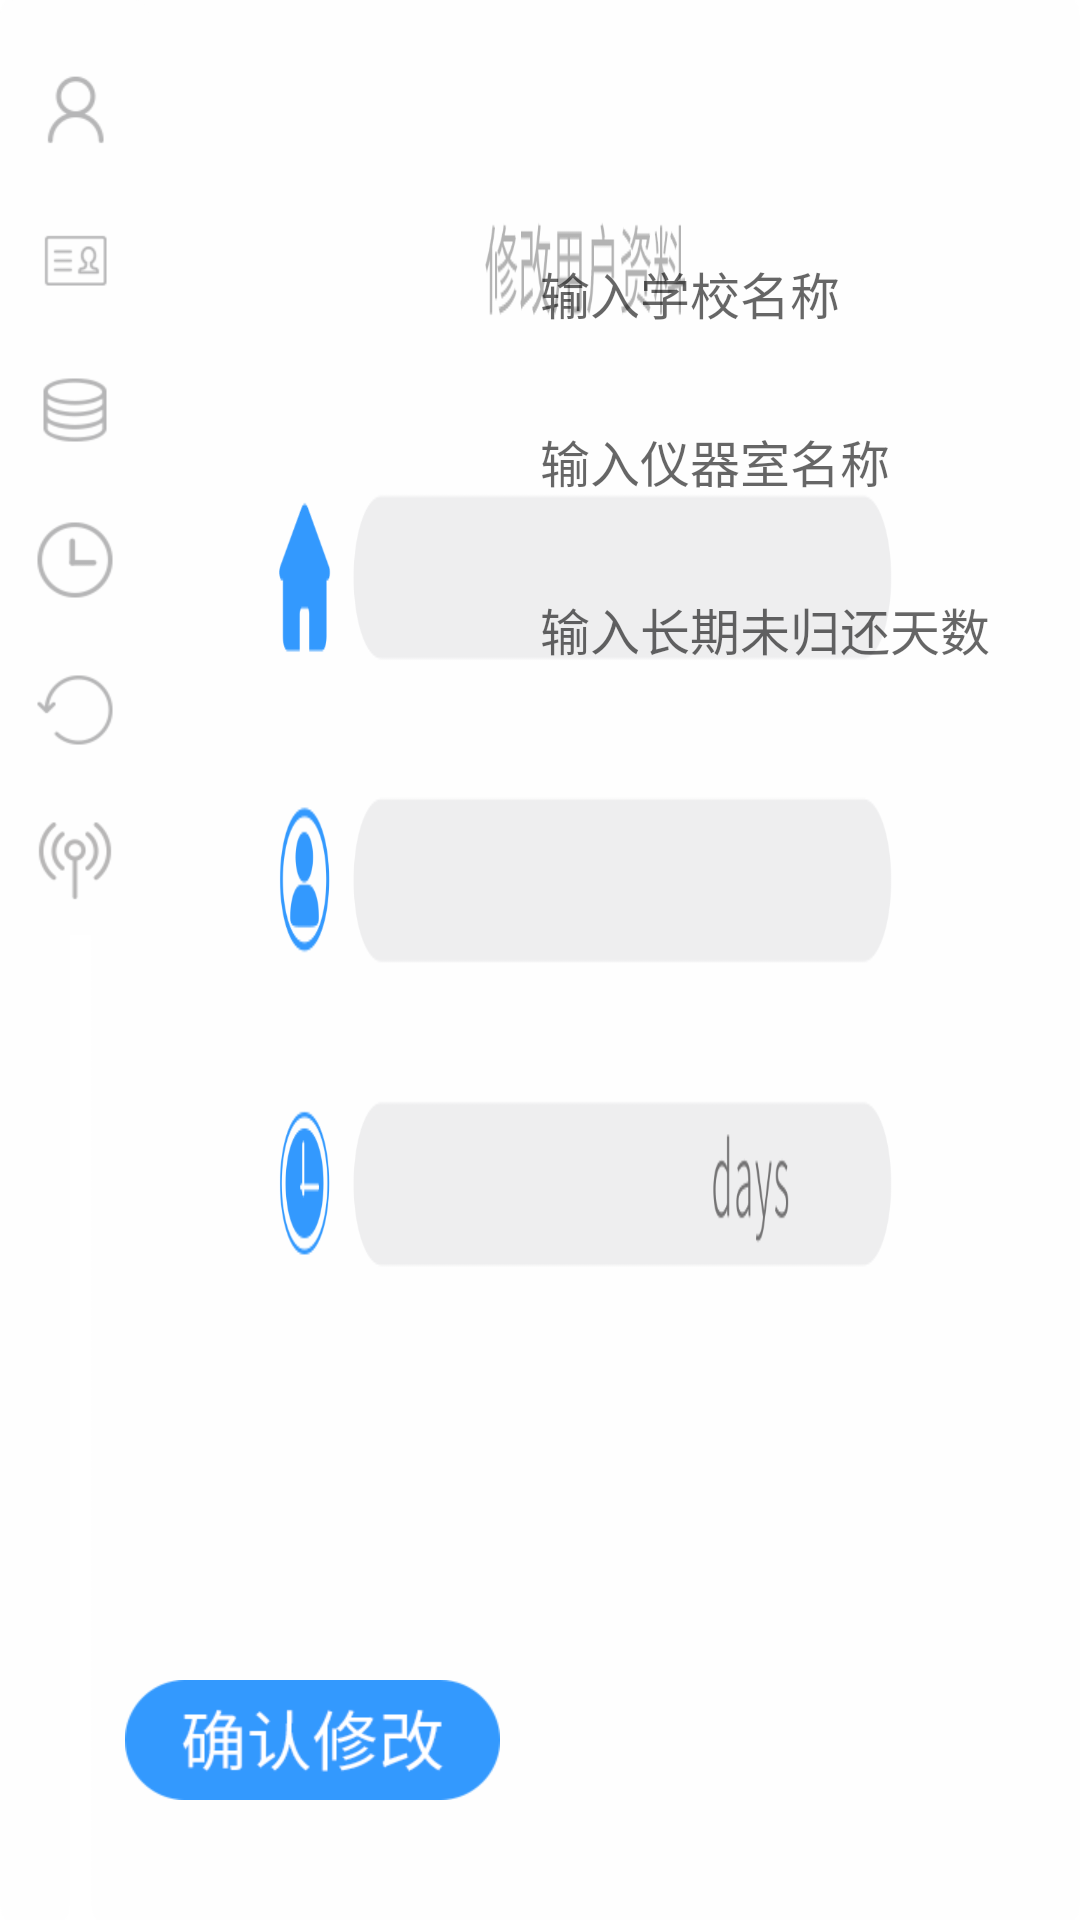

Locate icon controls on the screen. Image size 1080×1920, boxes as [x1,y1,x2,y2].
settings tab id: [45,236,107,286]
settings tab info: [48,76,104,143]
settings tab reset: [37,675,113,745]
settings tab stock: [43,378,107,442]
settings tab sync: [39,822,111,899]
settings tab time: [37,522,113,598]
